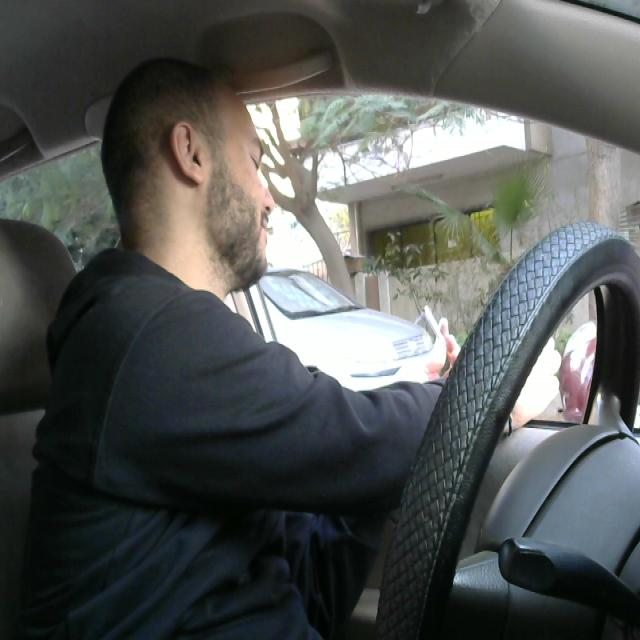smoking: (418, 296, 459, 362)
